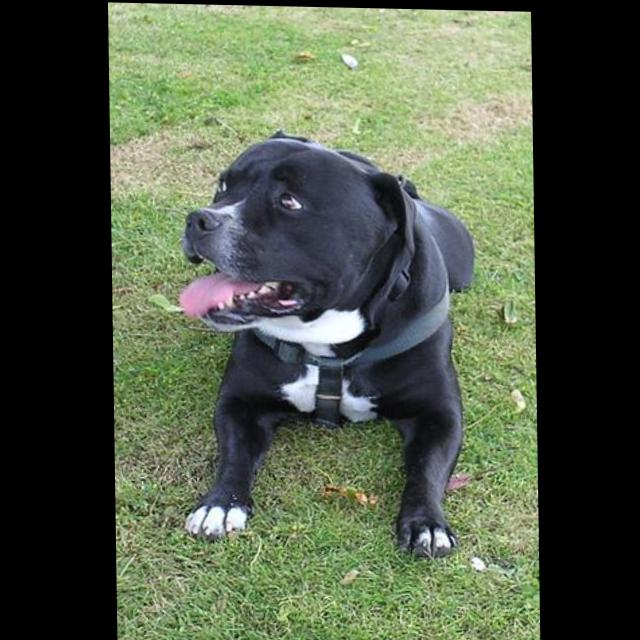amstaff: (175, 127, 481, 558)
